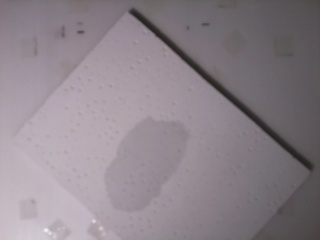Water_detected: (110, 130, 185, 206)
